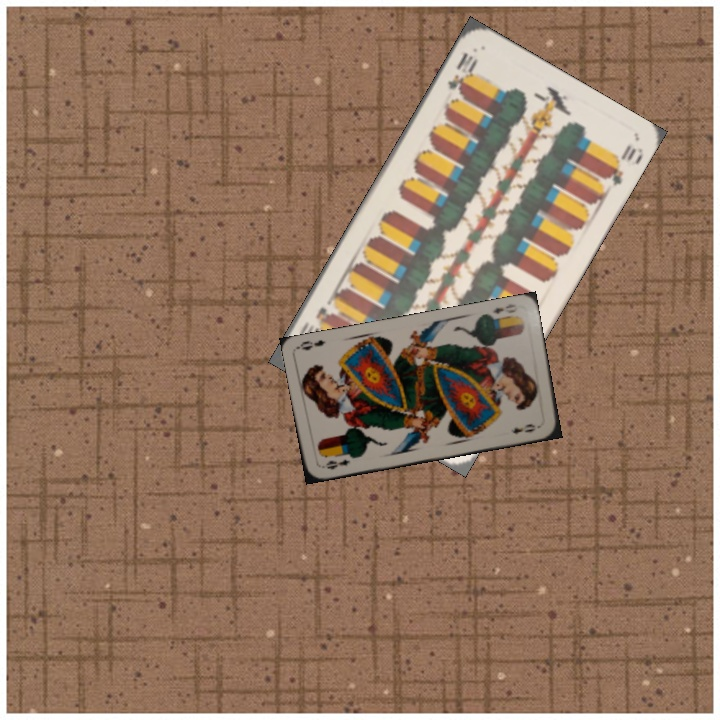E10: (443, 48, 481, 97)
EO: (322, 455, 352, 472), (489, 300, 520, 316)
